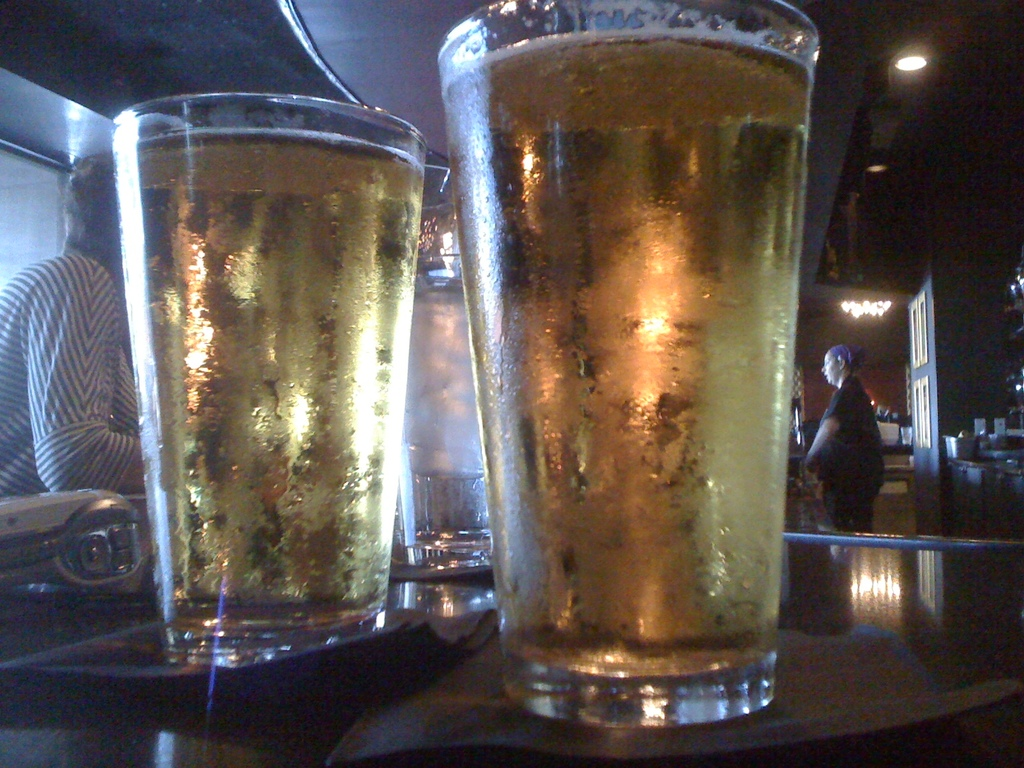Beer: (449, 21, 812, 676), (114, 132, 422, 632)
